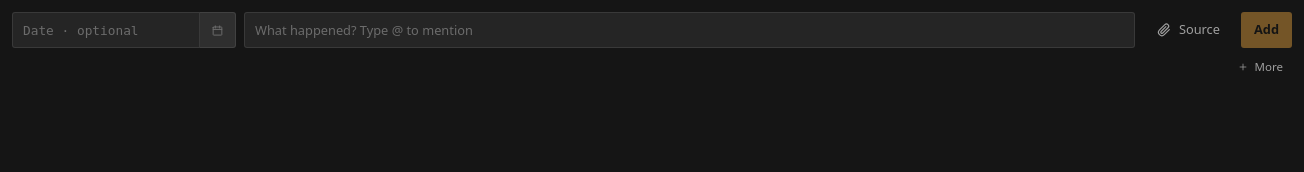
Test: mentions › shows the field that matched when it is not the name
The width and height of the screenshot is (1304, 172).
Type "@AA12" into the dropdown named "What happened" at (689, 30), box [244,12,1135,48]
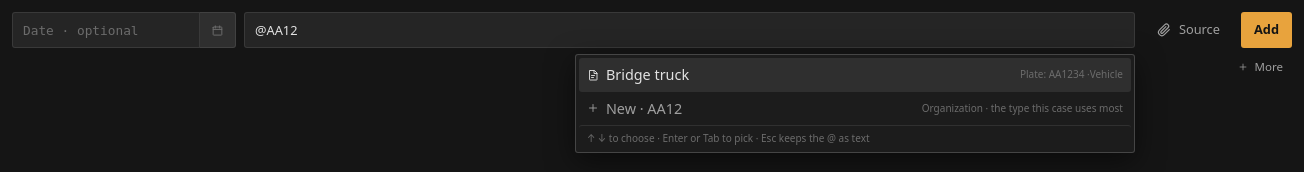
expect the option "Bridge truck Plate: AA1234 ·Vehicle" is shown: met, box [579,58,1131,92]
